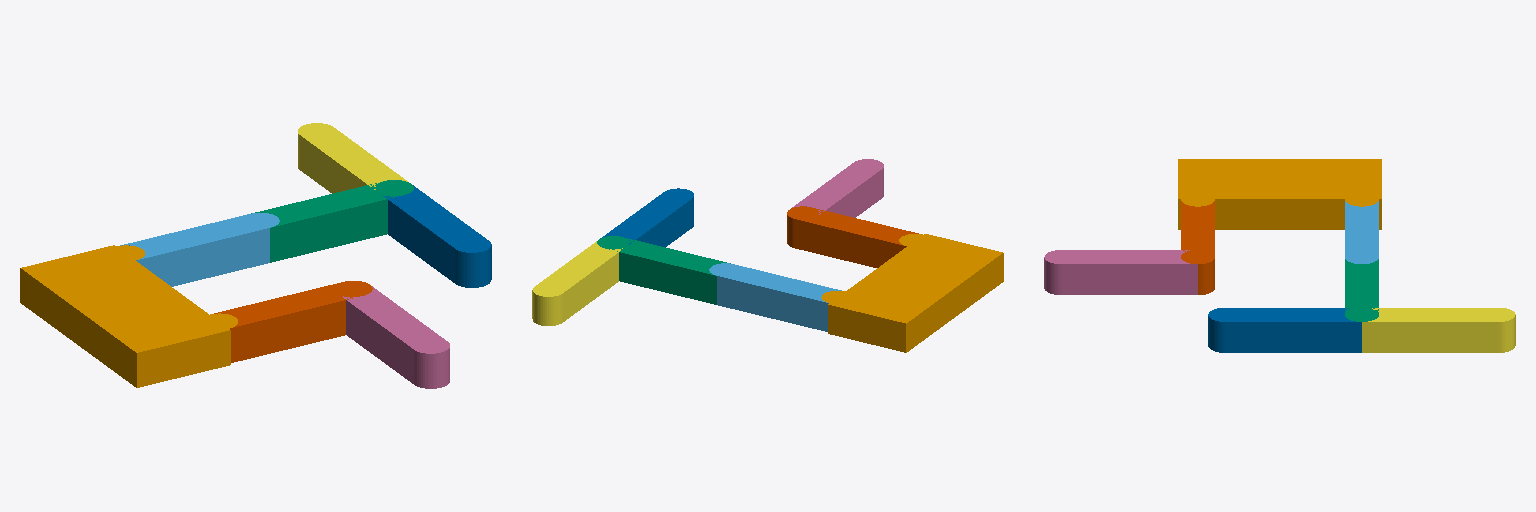
robot.urdf — simple_tree:
<robot name="simple_tree">
	<link name = "base">
		<visual name="body_base_mesh">
			<origin rpy = "0 0 0" xyz = "0 0 0"/>
			<geometry>
				<mesh filename="simple-tree/base.STL"/>
			</geometry>
		</visual>	
	</link>
	<link name = "link1">
		<visual name="link1_mesh">
			<origin rpy = "0 0 0" xyz = "0 0 0"/>
			<geometry>
				<mesh filename="simple-tree/link.STL"/>
			</geometry>
		</visual>	
	</link>
	<link name = "link2">
		<visual name="link2_mesh">
			<origin rpy = "0 0 0" xyz = "0 0 0"/>
			<geometry>
				<mesh filename="simple-tree/link.STL"/>
			</geometry>
		</visual>	
	</link>
	<link name = "link3">
		<visual name="link3_mesh">
			<origin rpy = "0 0 0" xyz = "0 0 0"/>
			<geometry>
				<mesh filename="simple-tree/link.STL"/>
			</geometry>
		</visual>	
	</link>
	<link name = "link4">
		<visual name="link4_mesh">
			<origin rpy = "0 0 0" xyz = "0 0 0"/>
			<geometry>
				<mesh filename="simple-tree/link.STL"/>
			</geometry>
		</visual>	
	</link>
	<link name = "link5">
		<visual name="link5_mesh">
			<origin rpy = "0 0 0" xyz = "0 0 0"/>
			<geometry>
				<mesh filename="simple-tree/link.STL"/>
			</geometry>
		</visual>	
	</link>
	<link name = "link6">
		<visual name="link6_mesh">
			<origin rpy = "0 0 0" xyz = "0 0 0"/>
			<geometry>
				<mesh filename="simple-tree/link.STL"/>
			</geometry>
		</visual>	
	</link>
	
	<joint name="j1" type="revolute">
		<parent link="base"/>
		<child link="link1"/>
		<origin rpy = "0 0 0" xyz = "7e-1 12e-1 -0.92e-1"/>
		<axis xyz = "0 0 1"/>
	</joint>
	<joint name="j2" type="revolute">
		<parent link="link1"/>
		<child link="link2"/>
		<origin rpy = "0 0 0" xyz = "20e-1 0 0"/>
		<axis xyz = "0 0 1"/>
	</joint>
	<joint name="j3" type="revolute">
		<parent link="link2"/>
		<child link="link3"/>
		<origin rpy = "0 0 1.57079633" xyz = "20e-1 0 0"/>
		<axis xyz = "0 0 1"/>
	</joint>
	<joint name="j4" type="revolute">
		<parent link="link2"/>
		<child link="link4"/>
		<origin rpy = "0 0 -1.57079633" xyz = "20e-1 0 0"/>
		<axis xyz = "0 0 1"/>
	</joint>

	<joint name="j5" type="revolute">
		<parent link="base"/>
		<child link="link5"/>
		<origin rpy = "0 0 0" xyz = "7e-1 -12e-1 -0.92e-1"/>
		<axis xyz = "0 0 1"/>
	</joint>
	<joint name="j6" type="revolute">
		<parent link="link5"/>
		<child link="link6"/>
		<origin rpy = "0 0 -1.57079633" xyz = "20e-1 0 0"/>
		<axis xyz = "0 0 1"/>
	</joint>
	
</robot>

--- Render facts (derived) ---
Views: 3 orthographic renders of the robot side by side, from view 1: azimuth 30°, elevation 25°; view 2: azimuth 150°, elevation 25°; view 3: azimuth 270°, elevation 25°.
Robot: simple_tree — 7 links, 6 joints (6 revolute); root link base; default pose: all joints at 0.
Visible links, largest first — view 1: base, link2, link1, link5, link6, link4, link3; view 2: base, link1, link5, link2, link3, link6, link4; view 3: base, link6, link3, link4, link5, link1, link2.
Link boxes in pixels (bbox=[...]): base: bbox=[20, 245, 237, 387]; link2: bbox=[251, 180, 413, 262]; link1: bbox=[120, 213, 279, 286]; link5: bbox=[214, 281, 372, 362]; link6: bbox=[343, 286, 449, 388]; link4: bbox=[382, 185, 491, 287]; link3: bbox=[298, 123, 407, 193]; base: bbox=[821, 234, 1003, 352]; link1: bbox=[709, 263, 841, 331]; link5: bbox=[787, 206, 918, 267]; link2: bbox=[597, 236, 730, 304]; link3: bbox=[532, 241, 622, 325]; link6: bbox=[792, 159, 883, 217]; link4: bbox=[600, 188, 693, 247]; base: bbox=[1178, 159, 1381, 229]; link6: bbox=[1044, 250, 1197, 294]; link3: bbox=[1362, 308, 1515, 352]; link4: bbox=[1208, 308, 1361, 352]; link5: bbox=[1181, 201, 1214, 294]; link1: bbox=[1345, 201, 1378, 263]; link2: bbox=[1345, 259, 1378, 321].
Size in the robot's own frame: 5.65 by 6.9 by 0.5003 metres.
Meshes: 2 distinct files referenced, 7 mesh visuals loaded (2 binary STL).